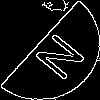N: (25, 25, 87, 82)
